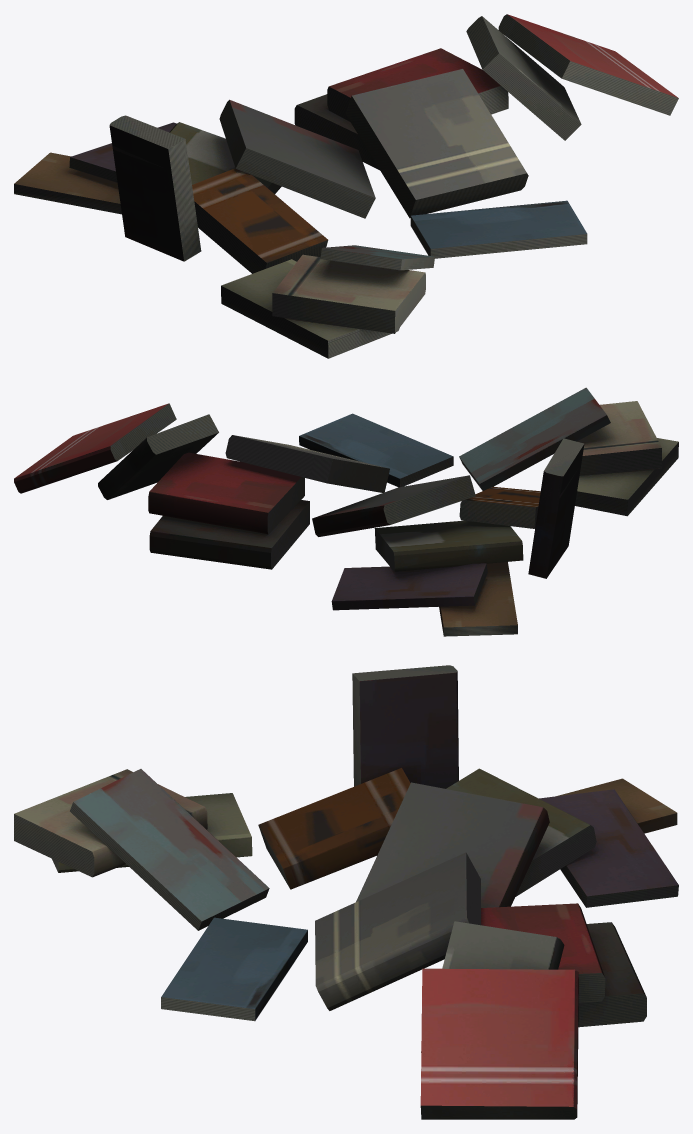
Rendered from bookpile_01.glb.
3 renders of one model, top to bottom at view 1: azimuth 30°, elevation 25°; view 2: azimuth 150°, elevation 25°; view 3: azimuth 270°, elevation 25°, orthographic. The views are drawn at different scales.
Parts seen in each view (by area): view 1: bookpile_01; view 2: bookpile_01; view 3: bookpile_01.
Boxes of the visible parts, bbox=[...] form: bookpile_01: bbox=[14, 14, 678, 358]; bookpile_01: bbox=[14, 387, 678, 636]; bookpile_01: bbox=[14, 665, 678, 1119].
Bounding box in the file's own units: 1.7 × 0.3453 × 1.42.
Materials: 1 (1 with a texture image).
